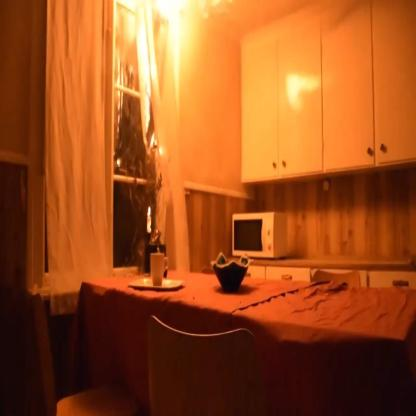fire: (128, 2, 223, 103), (147, 203, 152, 216)
